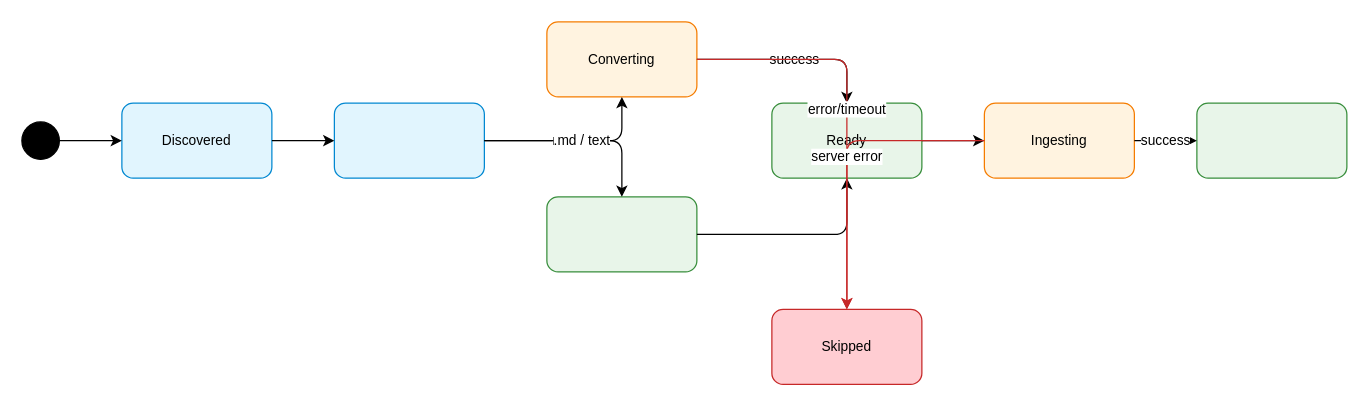
This 1369x406 diagram has some shape labels left out. Each missing label, with the box of its shape:
Categorized: (333, 102, 484, 178)
Direct Read: (546, 196, 697, 272)
Indexed: (1196, 102, 1347, 178)
